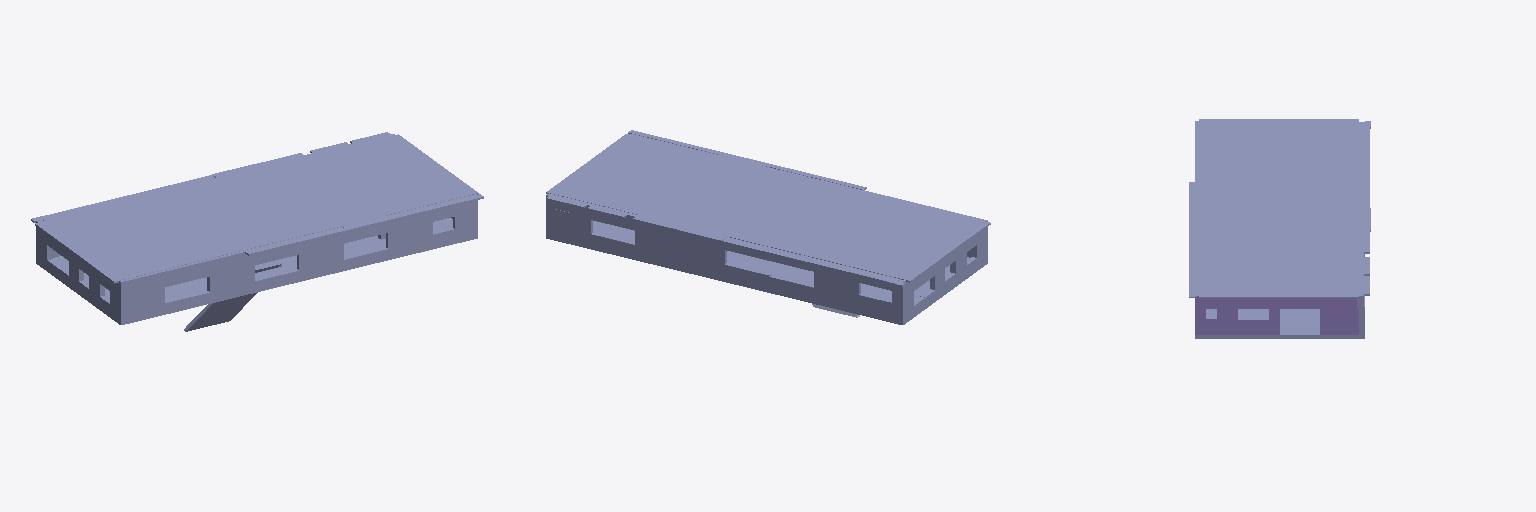
File: taller1.obj
The picture shows the model from 3 angles: view 1: azimuth 30°, elevation 25°; view 2: azimuth 150°, elevation 25°; view 3: azimuth 270°, elevation 25°; orthographic projection.
Parts seen in each view (by area): view 1: Cube_Cube.001; view 2: Cube_Cube.001; view 3: Cube_Cube.001.
Boxes of the visible parts, box(x1,y1,x2,y2) form: Cube_Cube.001: box(31, 132, 483, 331); Cube_Cube.001: box(546, 130, 990, 324); Cube_Cube.001: box(1189, 119, 1370, 338).
Bounding box in the file's own units: 24.94 × 6.3 × 10.82.